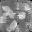people: (9, 20, 18, 30), (8, 10, 16, 19), (0, 16, 8, 24), (18, 12, 26, 20), (3, 5, 11, 12)
